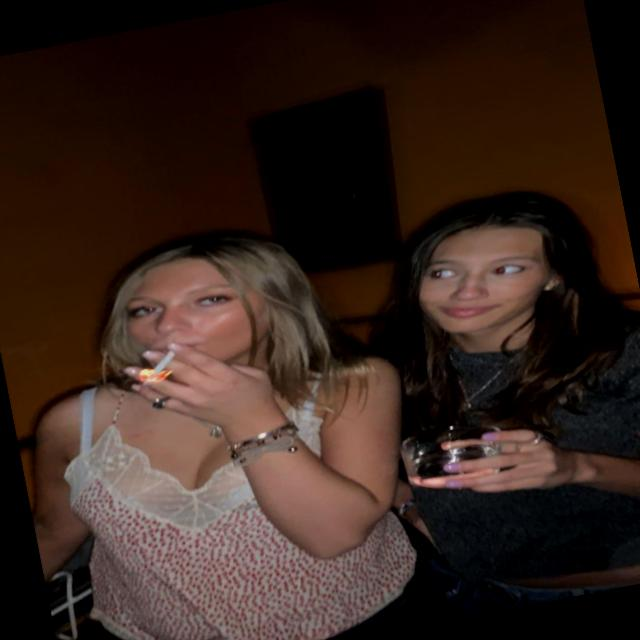smoke: (137, 336, 195, 398)
